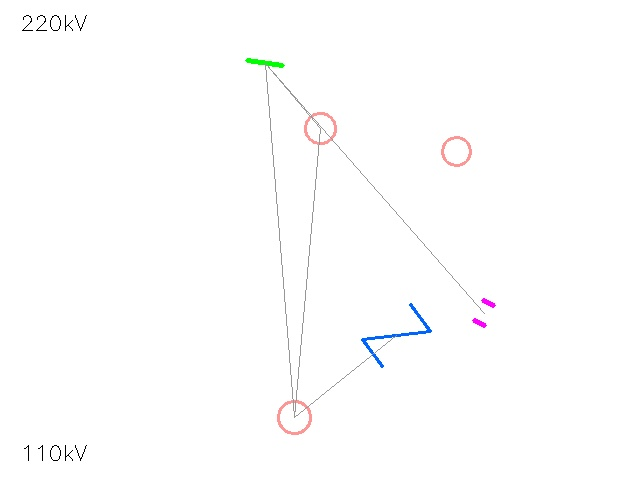busbar: (243, 41, 287, 85)
capacitor: (466, 295, 502, 331)
circuit_breaker: (363, 302, 429, 368)
current_transformer: (289, 97, 351, 159), (427, 122, 485, 180)
disconnect_switch: (261, 384, 327, 450)
